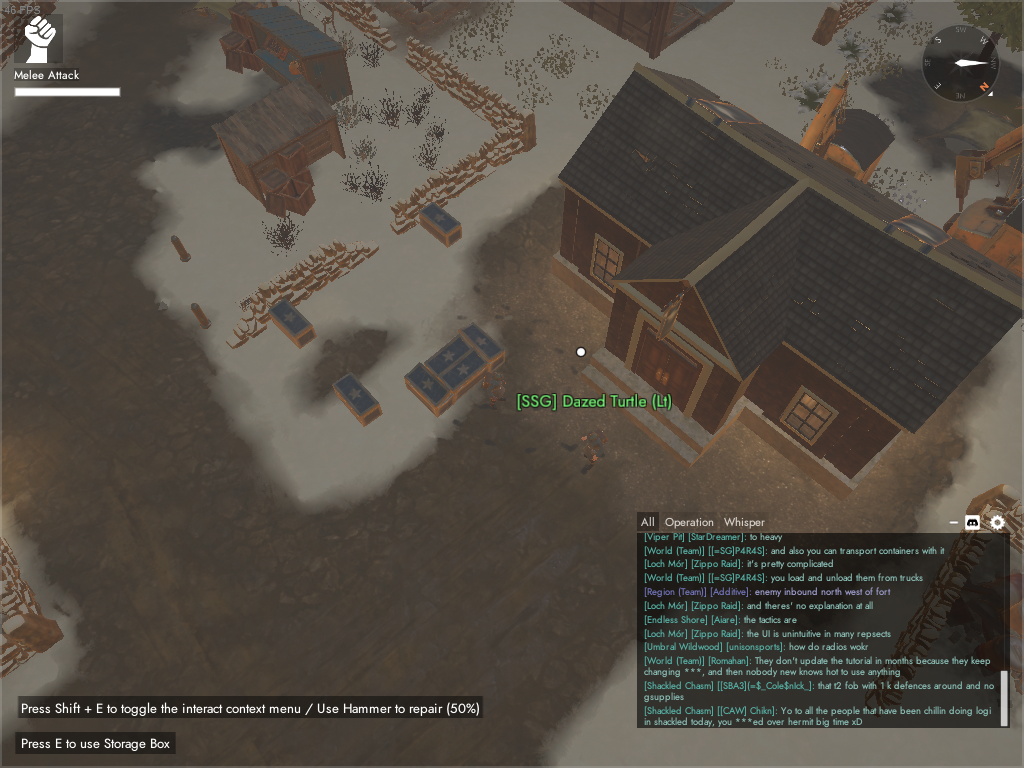player: (579, 426, 609, 469), (480, 369, 509, 411)
scv: (943, 119, 1024, 279), (798, 71, 895, 185)
storage_box: (331, 369, 385, 429), (402, 362, 454, 418), (436, 349, 491, 399), (457, 320, 506, 374), (266, 298, 317, 349), (424, 334, 473, 377), (417, 201, 462, 247)
toggle_storage_box: (16, 732, 176, 754)
